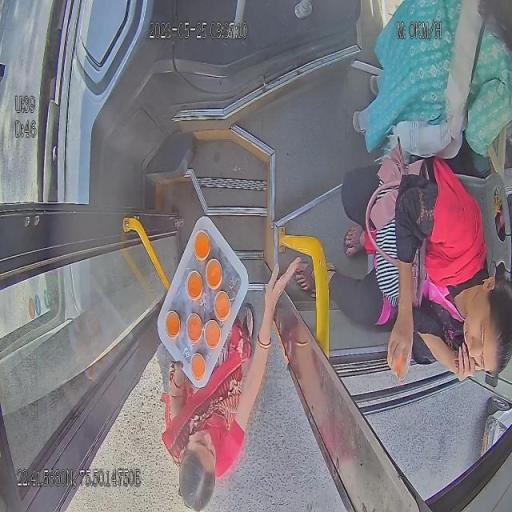persona: (294, 138, 512, 384), (160, 256, 302, 510), (352, 0, 512, 175)
